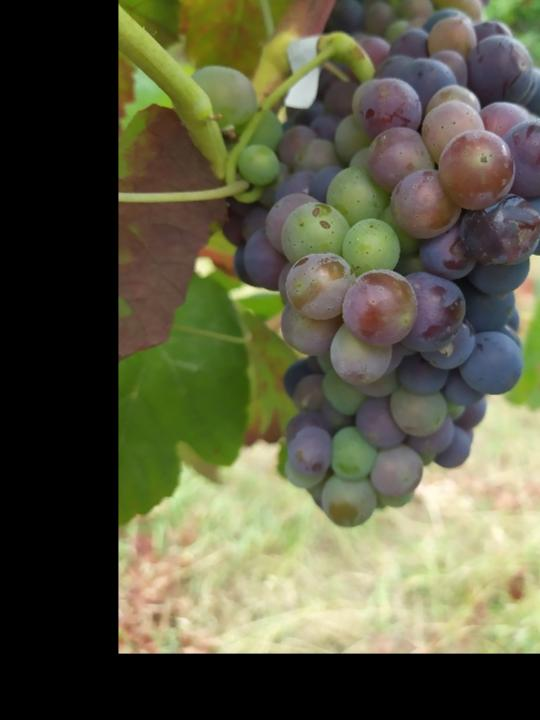grape: (238, 14, 540, 531)
